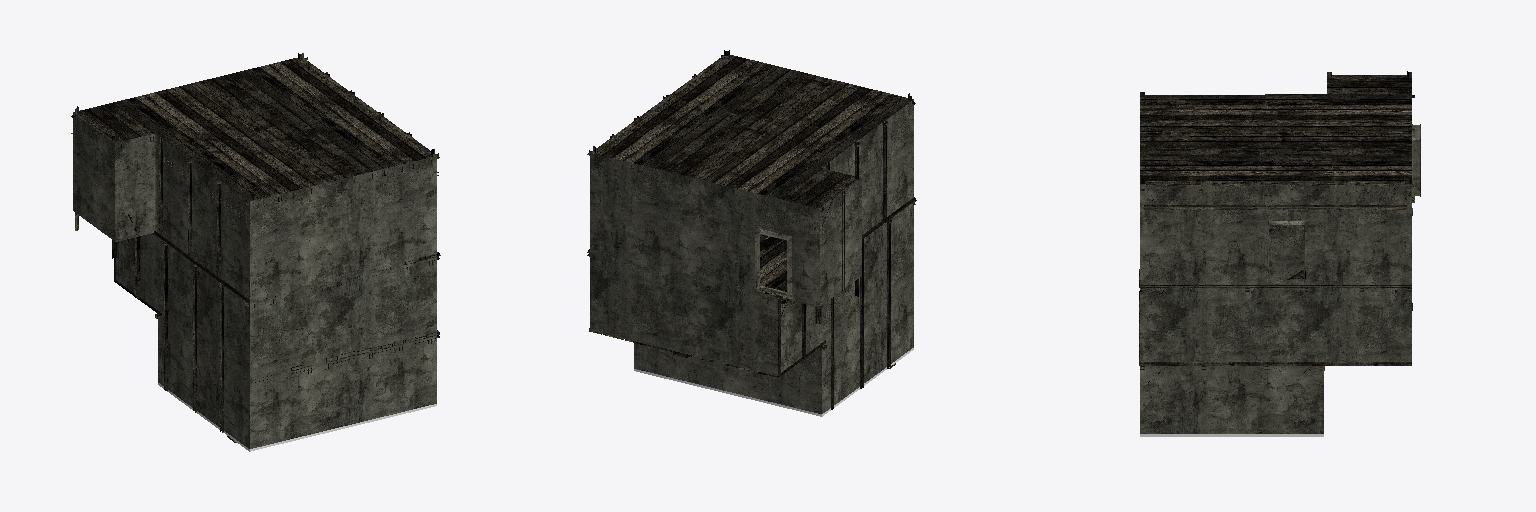
The picture shows the model from 3 angles: view 1: azimuth 30°, elevation 25°; view 2: azimuth 150°, elevation 25°; view 3: azimuth 270°, elevation 25°; orthographic projection.
Parts seen in each view (by area): view 1: mesh3, mesh5, mesh2; view 2: mesh3, mesh5, mesh2; view 3: mesh3, mesh5, mesh2.
Boxes of the visible parts, box(x1,y1,x2,y2) form: mesh3: box(73, 68, 436, 448); mesh5: box(71, 53, 440, 442); mesh2: box(158, 383, 436, 451); mesh3: box(590, 100, 913, 413); mesh5: box(587, 50, 916, 409); mesh2: box(634, 348, 913, 416); mesh3: box(1140, 124, 1420, 433); mesh5: box(1139, 71, 1414, 384); mesh2: box(1140, 434, 1323, 436).
Size of the model in its own units: 9.64 by 9.93 by 9.83.
7 materials, 6 textured.